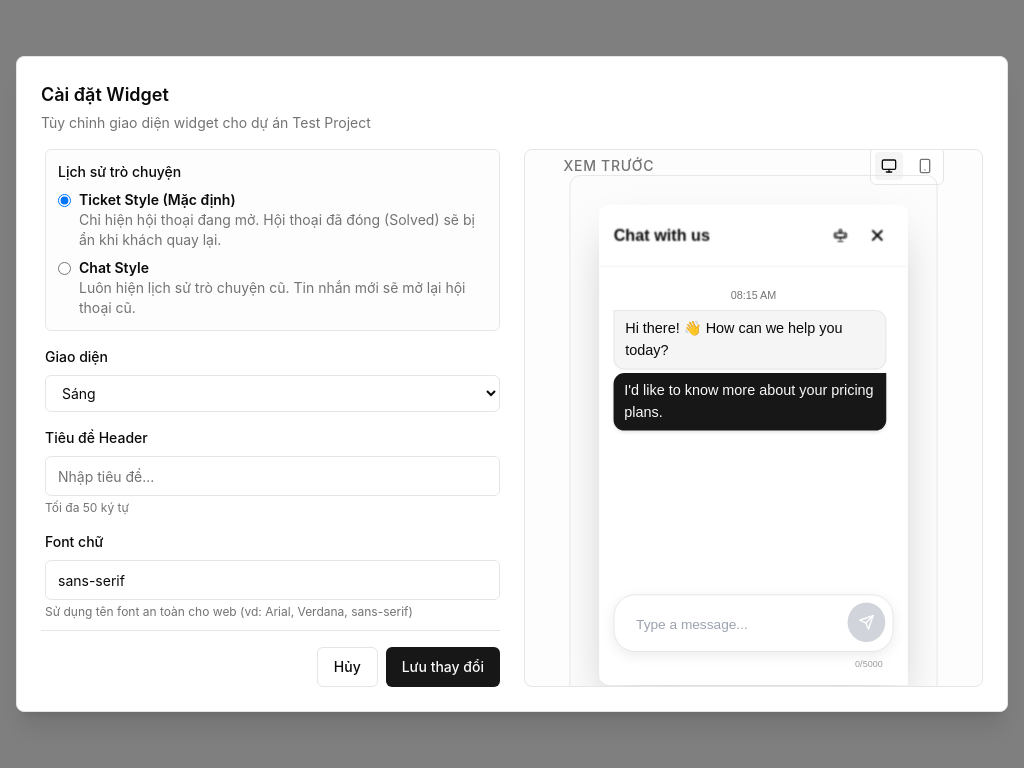
Test case: ProjectWidgetSettingsDialog › updates form state when selection changes
Click the radio button labelled "Chat Style".
click(64, 269)  # box [58, 262, 71, 275]
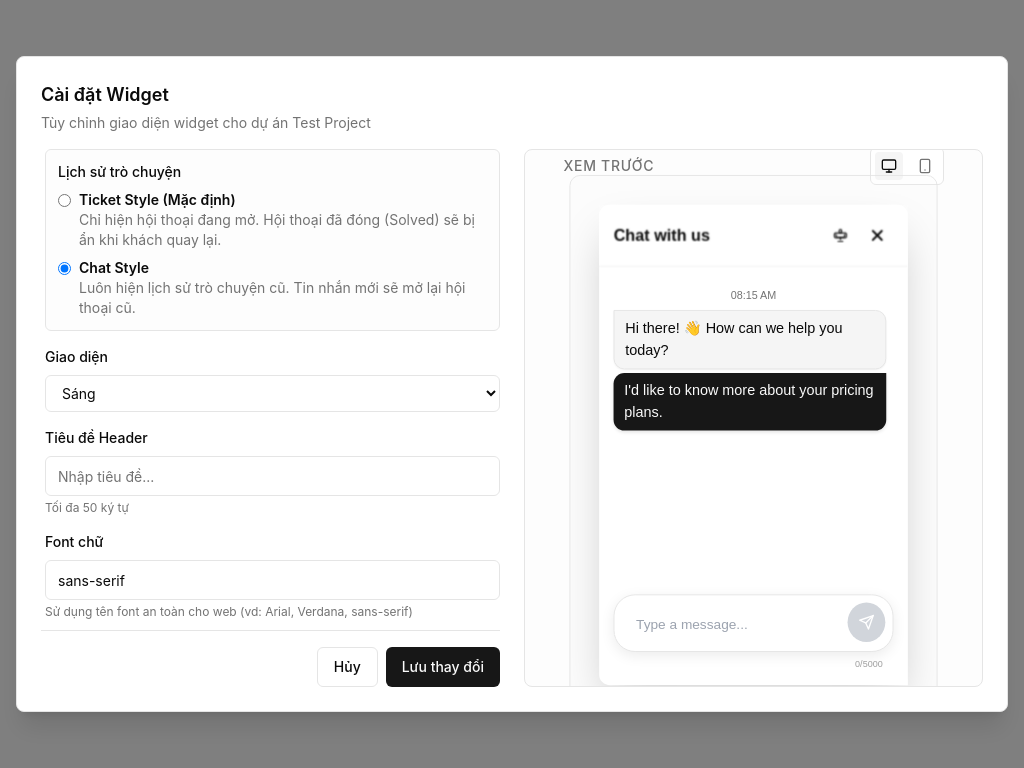
Check: the radio button labelled "Chat Style" is checked, box [58, 262, 71, 275]
Check: the radio button labelled "Ticket Style" is not checked, box [58, 194, 71, 207]
